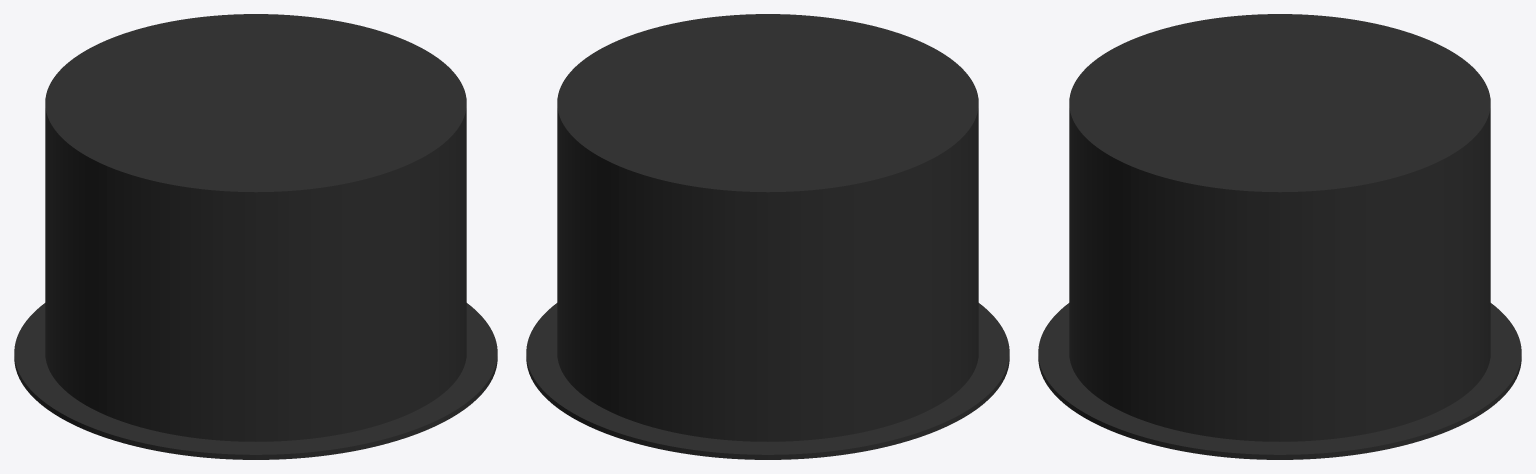
The model's file is head1.dae.
3 views of the same model, side by side, from view 1: azimuth 30°, elevation 25°; view 2: azimuth 150°, elevation 25°; view 3: azimuth 270°, elevation 25° (orthographic).
Visible parts, largest first — view 1: head1; view 2: head1; view 3: head1.
Part boxes in pixels (x1,y1,x2,y2): head1: (14, 14, 497, 459); head1: (526, 14, 1009, 459); head1: (1038, 14, 1521, 459).
Size of the model in its own units: 0.086 by 0.086 by 0.05.
Materials: 1 (1 with a texture image).
